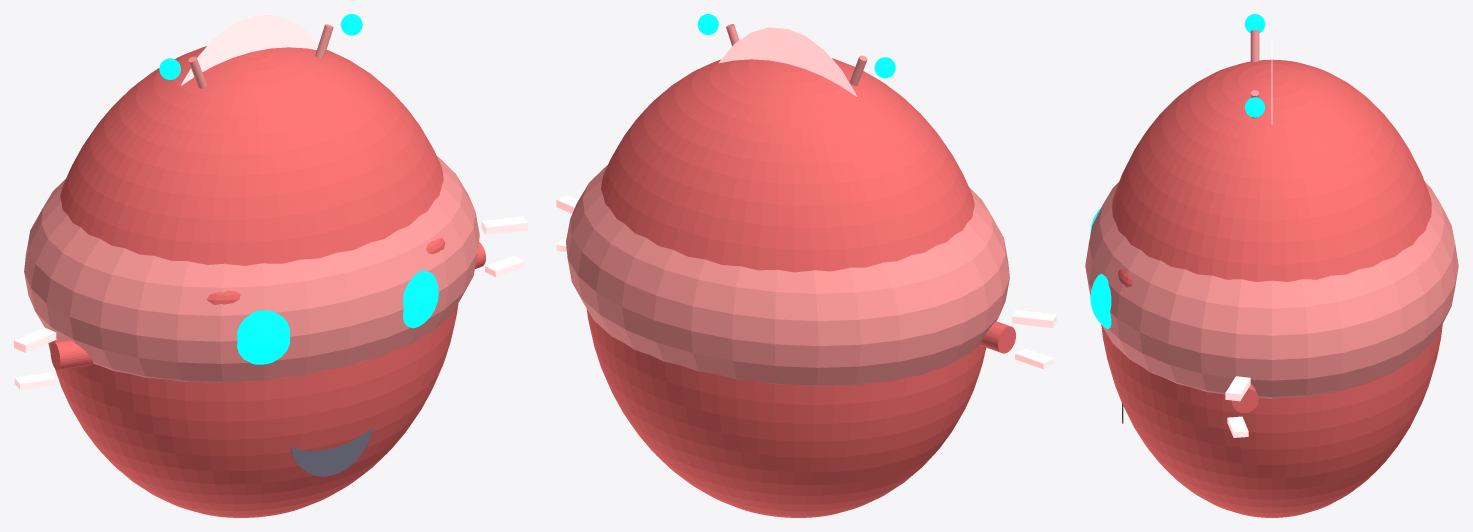
File: opencraws_robot.glb
3 renders of one model, left to right at view 1: azimuth 30°, elevation 25°; view 2: azimuth 150°, elevation 25°; view 3: azimuth 270°, elevation 25°, orthographic. The views are drawn at different scales.
Visible parts, largest first — view 1: Head, Shell, Stripe, Eye_L, LowerLip, Eye_R, Arm_L, ClawTop_R, ClawTop_L; view 2: Head, Shell, Stripe, Arm_L, ClawTop_L; view 3: Head, Shell, Eye_R, Arm_R, ClawTop_R.
Part boxes in pixels (x1,y1,x2,y2): Head: (48, 46, 458, 517); Shell: (24, 156, 479, 382); Stripe: (181, 14, 318, 85); Eye_L: (237, 310, 290, 364); LowerLip: (290, 427, 372, 476); Eye_R: (403, 270, 438, 328); Arm_L: (50, 339, 93, 370); ClawTop_R: (481, 216, 527, 234); ClawTop_L: (14, 327, 56, 352); Head: (586, 58, 986, 517); Shell: (566, 165, 1009, 386); Stripe: (719, 27, 856, 96); Arm_L: (979, 321, 1015, 353); ClawTop_L: (1012, 310, 1056, 327); Head: (1101, 59, 1442, 517); Shell: (1085, 182, 1458, 398); Eye_R: (1090, 273, 1111, 329); Arm_R: (1226, 384, 1258, 412); ClawTop_R: (1225, 376, 1250, 401).
Bounding box in the file's own units: 3.26 × 2.98 × 2.2.
